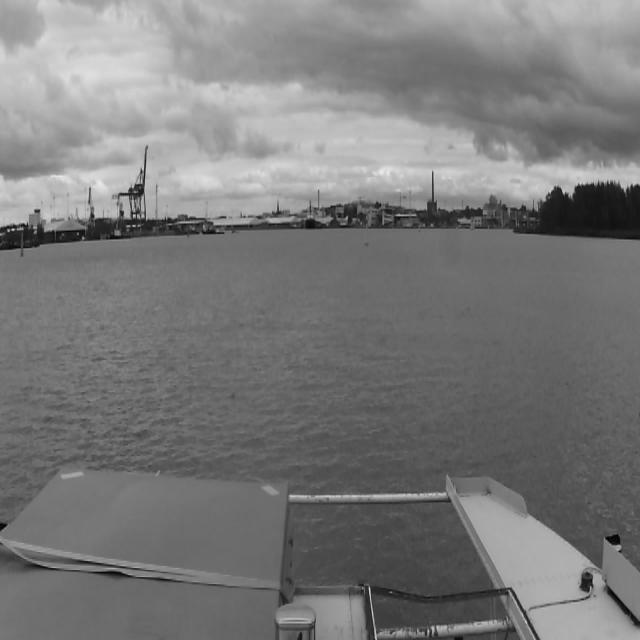buoy: (365, 224, 369, 246), (21, 233, 24, 257)
ship: (304, 200, 316, 229)
